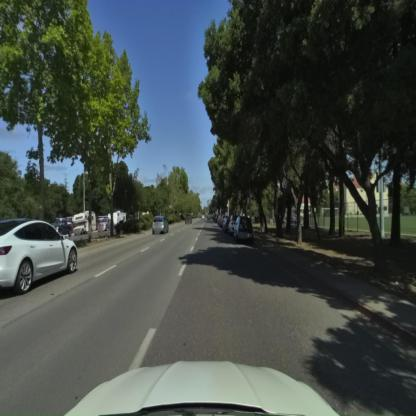car: (1, 218, 79, 296), (233, 217, 254, 244), (151, 216, 168, 235), (229, 216, 243, 237), (218, 216, 228, 229)
truck: (73, 206, 100, 248), (109, 201, 129, 229)
